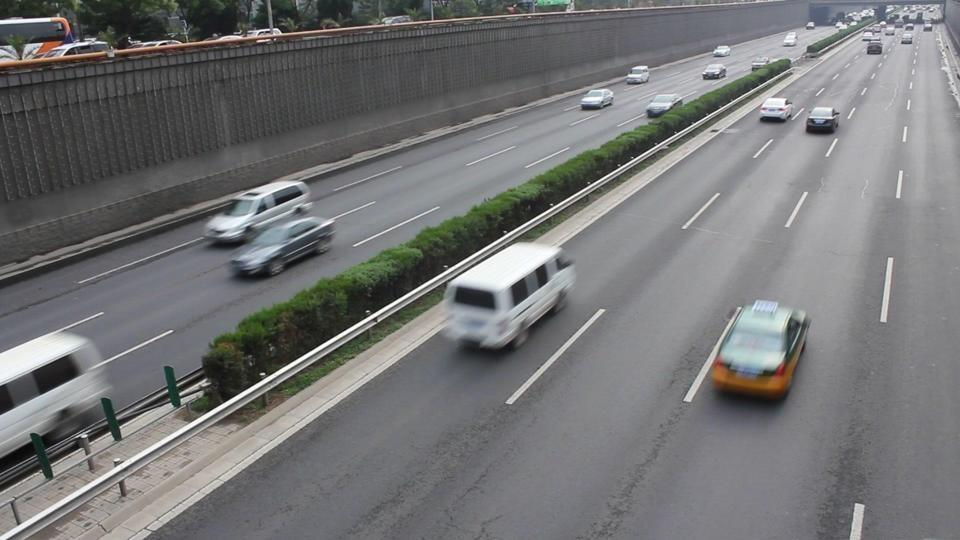car: (710, 298, 811, 401), (203, 178, 313, 246), (230, 214, 339, 280), (32, 40, 116, 62), (805, 104, 839, 134), (758, 97, 796, 122), (646, 94, 683, 119), (579, 88, 615, 109), (626, 66, 650, 85), (701, 64, 727, 80), (0, 45, 19, 62), (865, 37, 883, 54), (713, 45, 732, 57), (899, 30, 914, 45)
